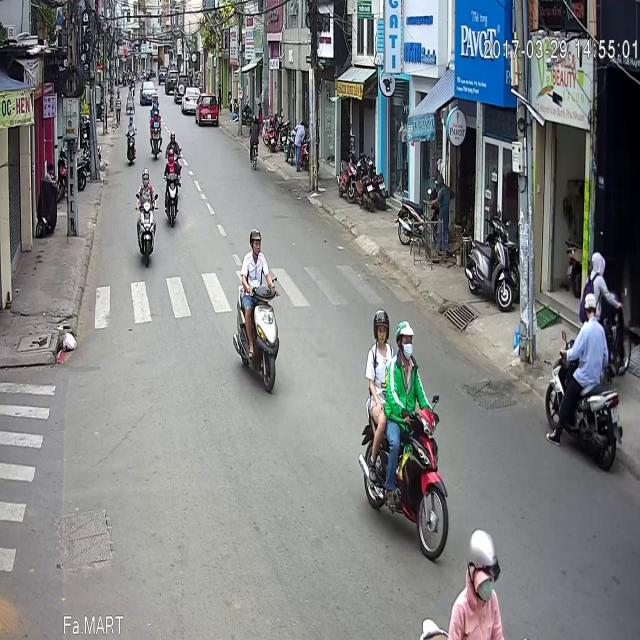bicycle: (248, 55, 259, 113)
car: (194, 34, 218, 68)
motorcycle: (357, 249, 449, 501), (544, 236, 622, 414), (420, 469, 506, 609), (232, 170, 280, 333), (135, 109, 159, 209), (163, 89, 181, 170), (149, 52, 163, 103), (125, 56, 136, 107)
